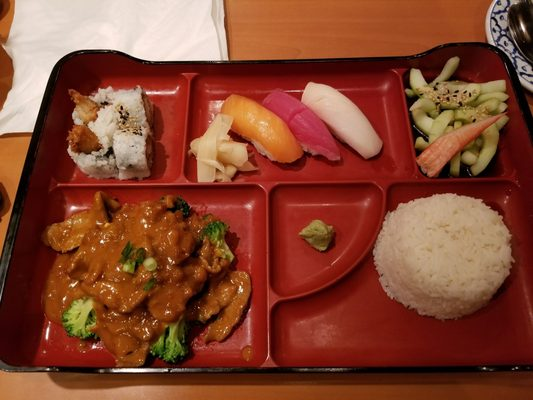curry: (147, 319, 188, 364), (61, 296, 99, 340)
sushi: (4, 184, 269, 372)
